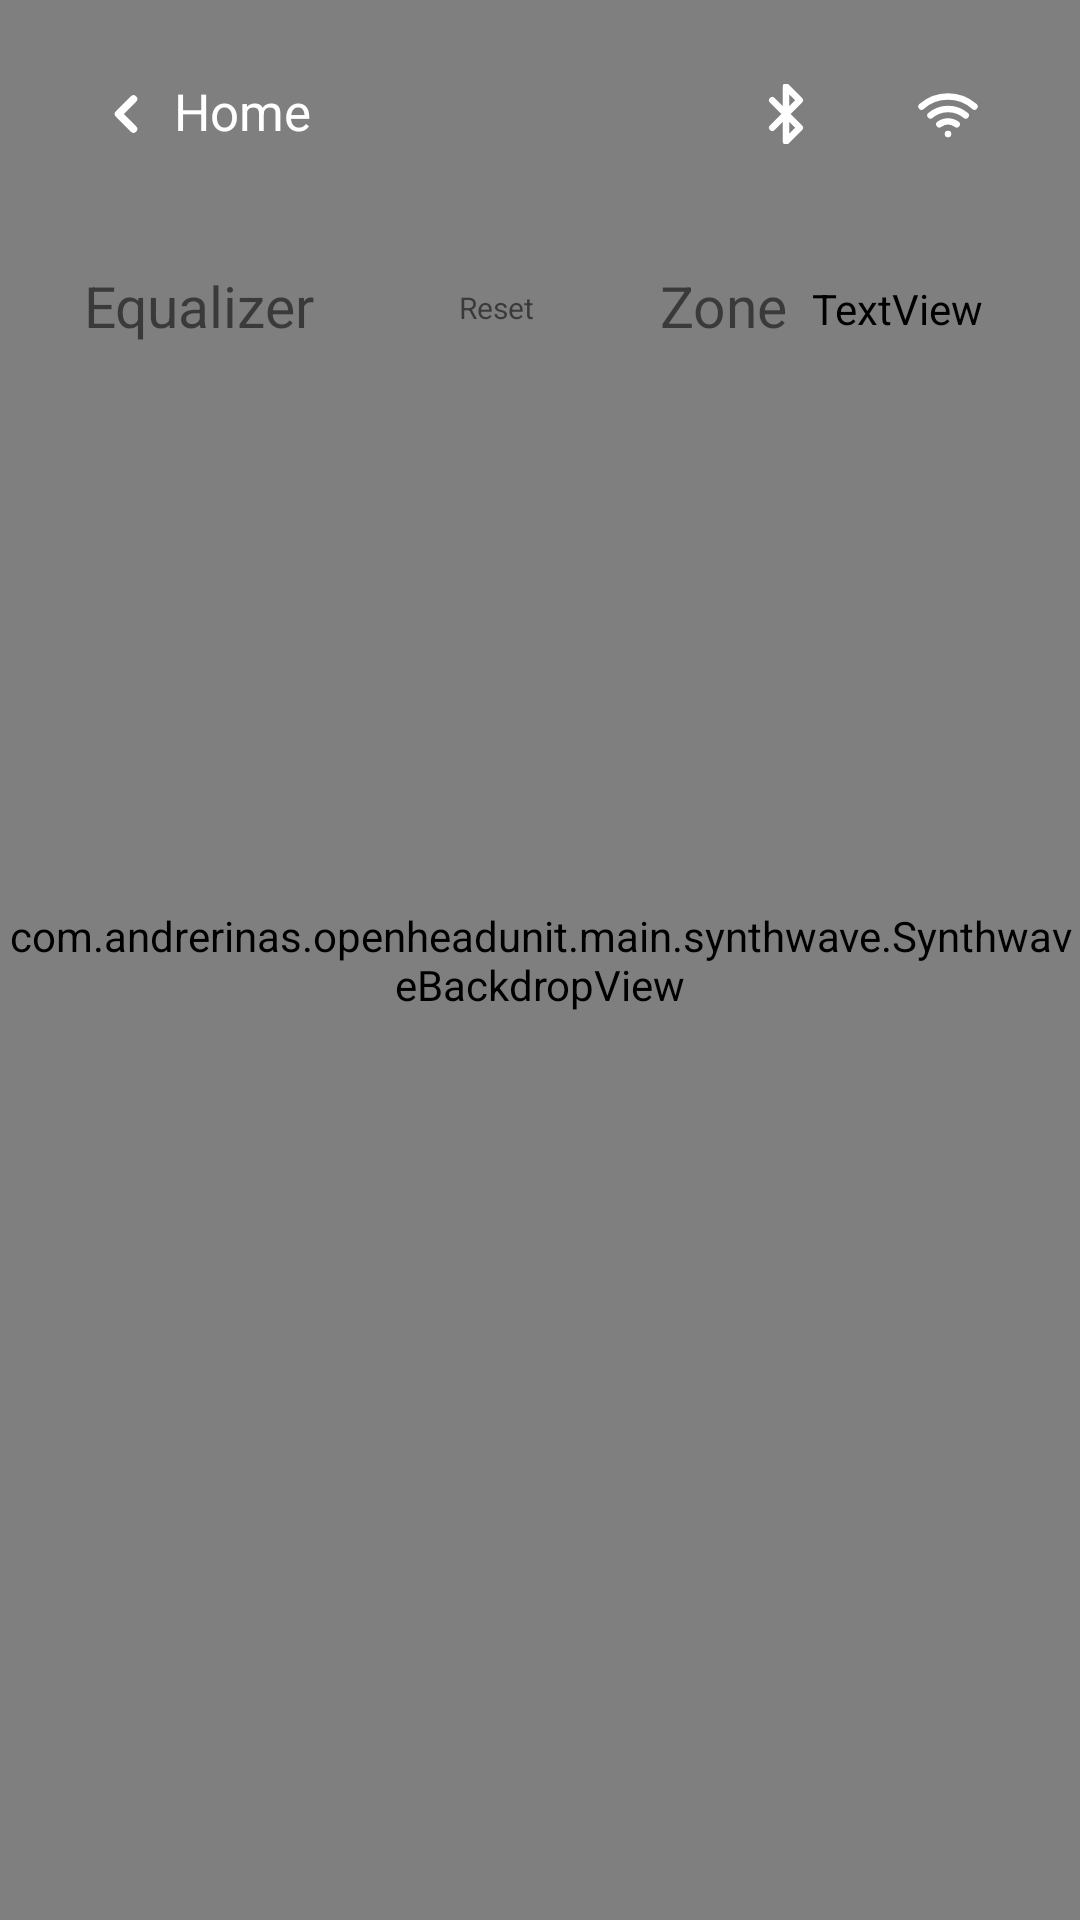

Point at icon controls on the screen. Image size 1080w x 1920h, points as [x,y].
wifi: [948,115]
